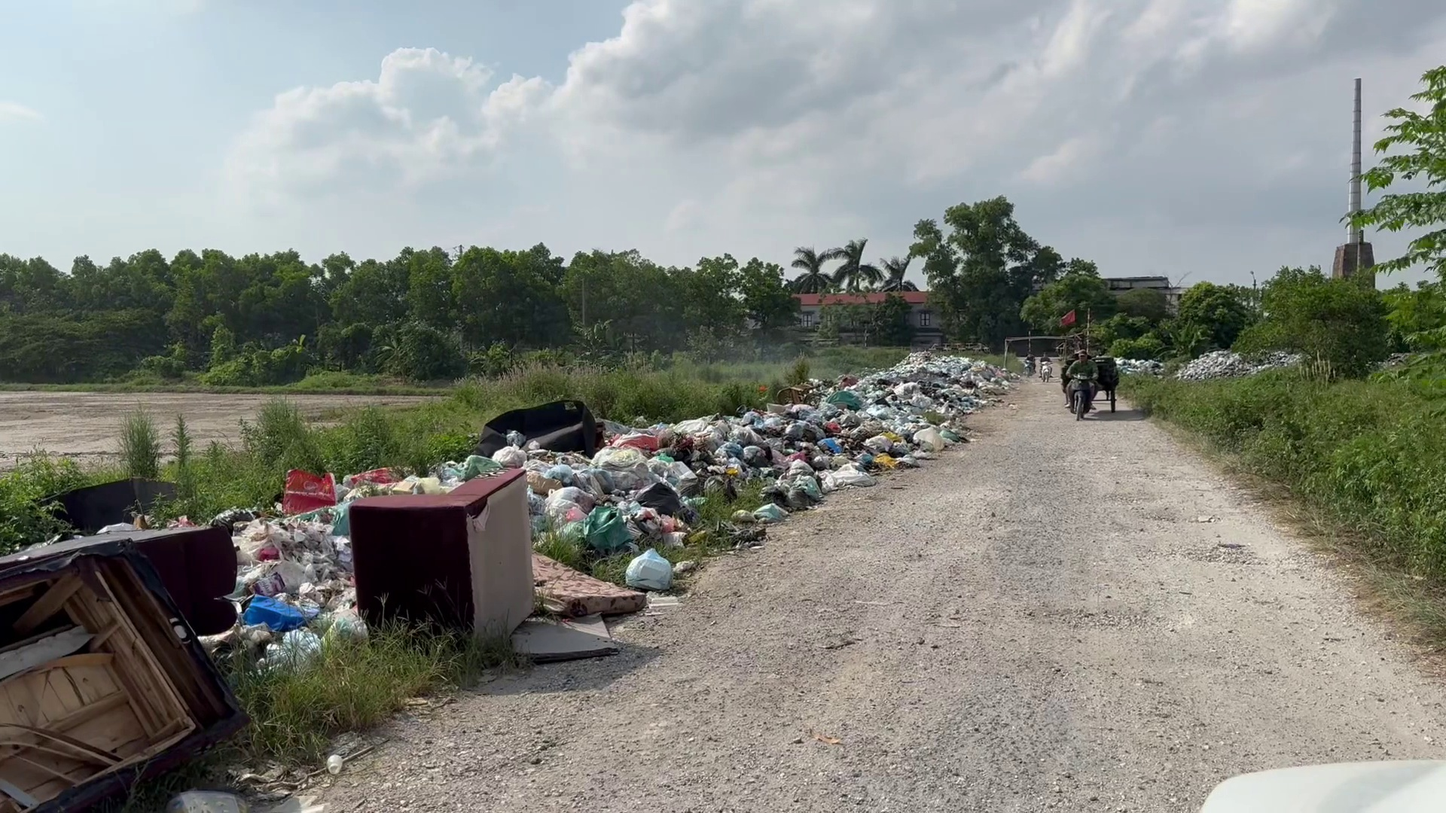garbage: (713, 519, 770, 552)
